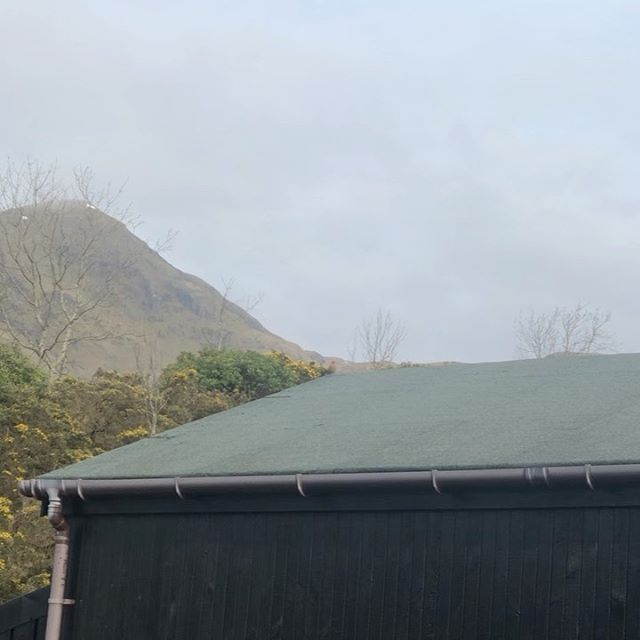building: (68, 363, 640, 640)
mountain: (1, 166, 254, 304)
sky: (10, 2, 640, 302)
tree: (1, 155, 190, 380)
